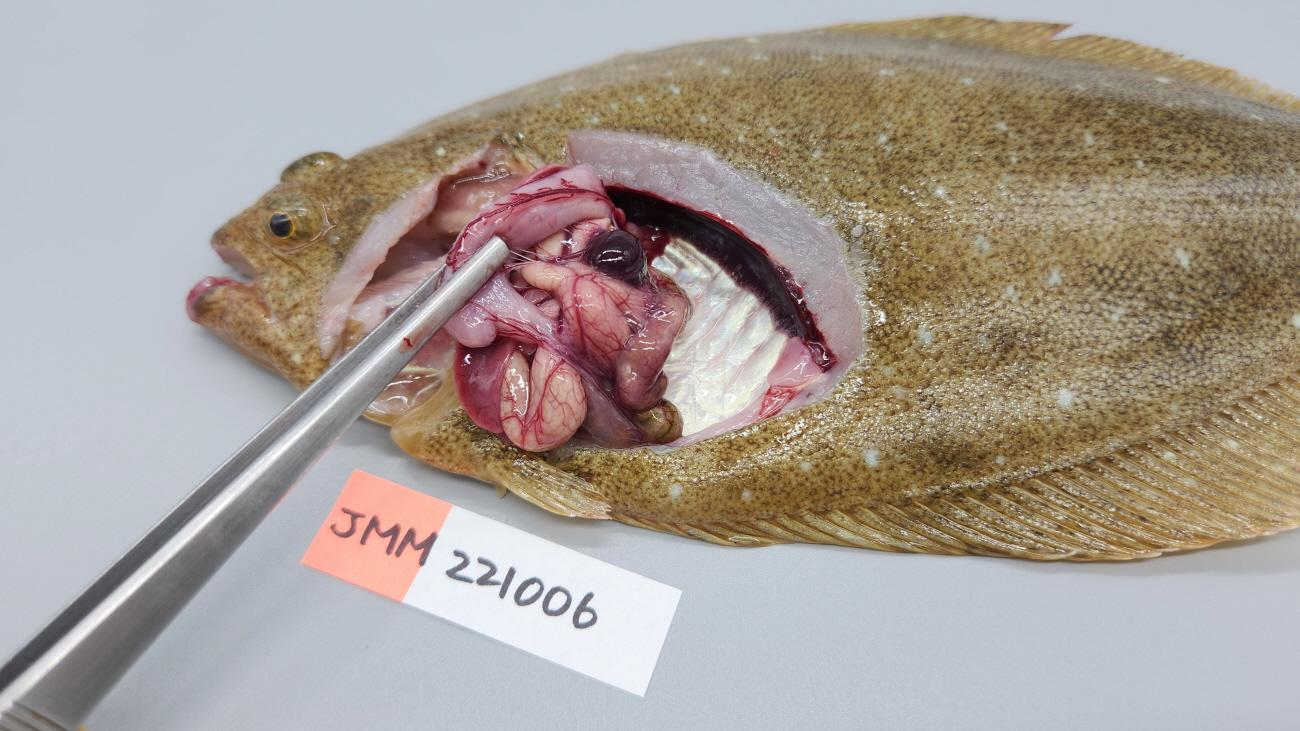POINN: (501, 217, 686, 453)
POSPN: (585, 229, 648, 283)
